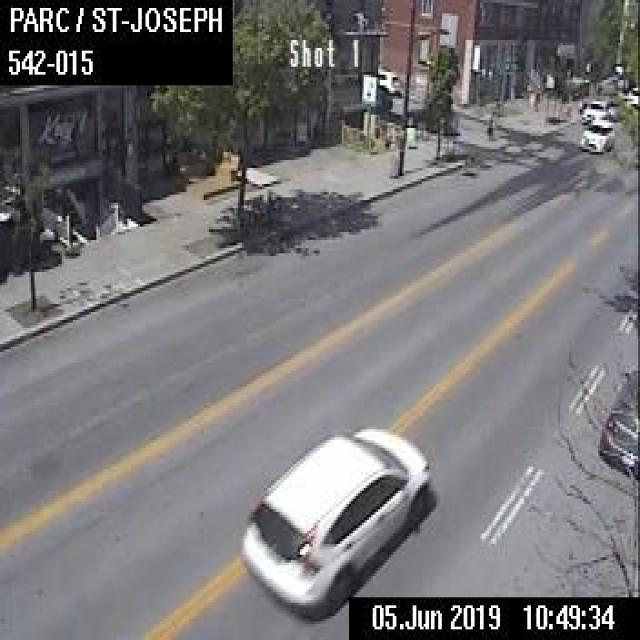pedestrian: (485, 111, 493, 138)
vehicle: (239, 422, 431, 616), (595, 357, 638, 480), (576, 117, 612, 155), (578, 96, 609, 119), (376, 66, 398, 93), (376, 83, 391, 107)
